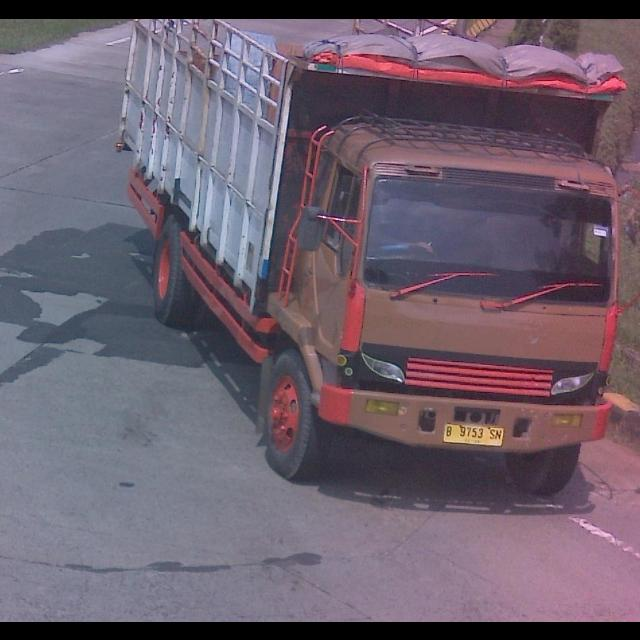plate: (443, 420, 512, 452)
